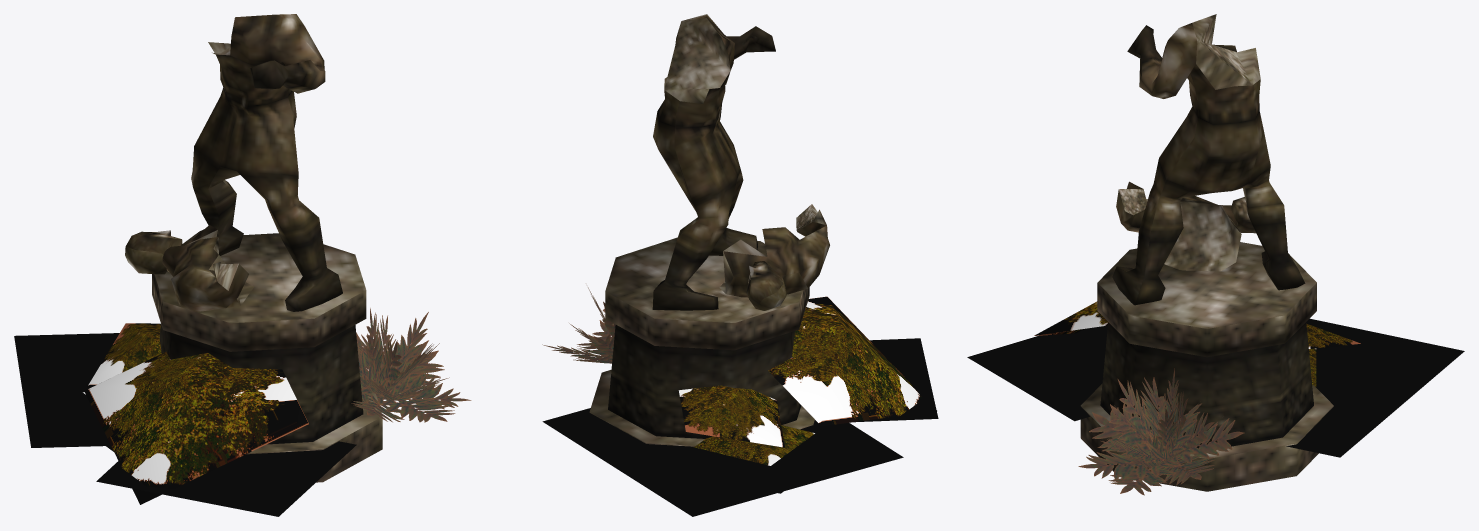
File: broken_statue2.dae
3 views of the same model, side by side, from view 1: azimuth 30°, elevation 25°; view 2: azimuth 150°, elevation 25°; view 3: azimuth 270°, elevation 25° (orthographic). The views are drawn at different scales.
Visible parts, largest first — view 1: Untitled; view 2: Untitled; view 3: Untitled.
Boxes of the visible parts, x1=… form: Untitled: x1=14, y1=14, x2=471, y2=516; Untitled: x1=542, y1=14, x2=938, y2=516; Untitled: x1=967, y1=14, x2=1464, y2=495.
Size of the model in its own units: 2.71 by 2.77 by 2.58.
6 materials, 6 textured.
